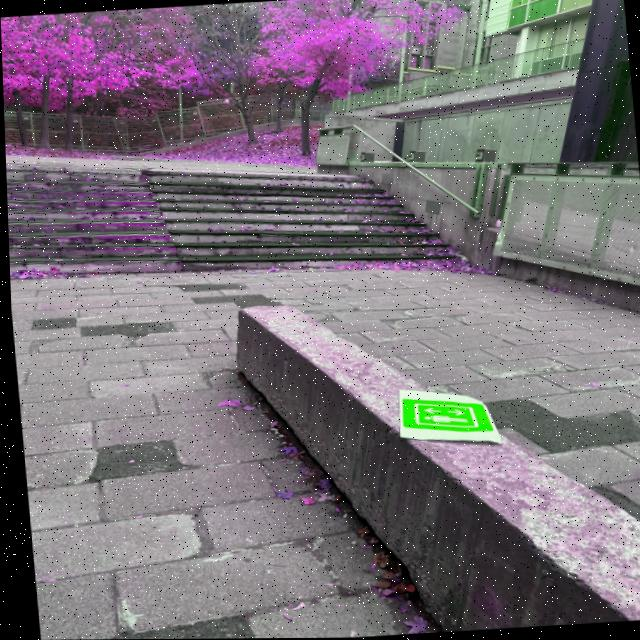elevator: (399, 402, 493, 432)
